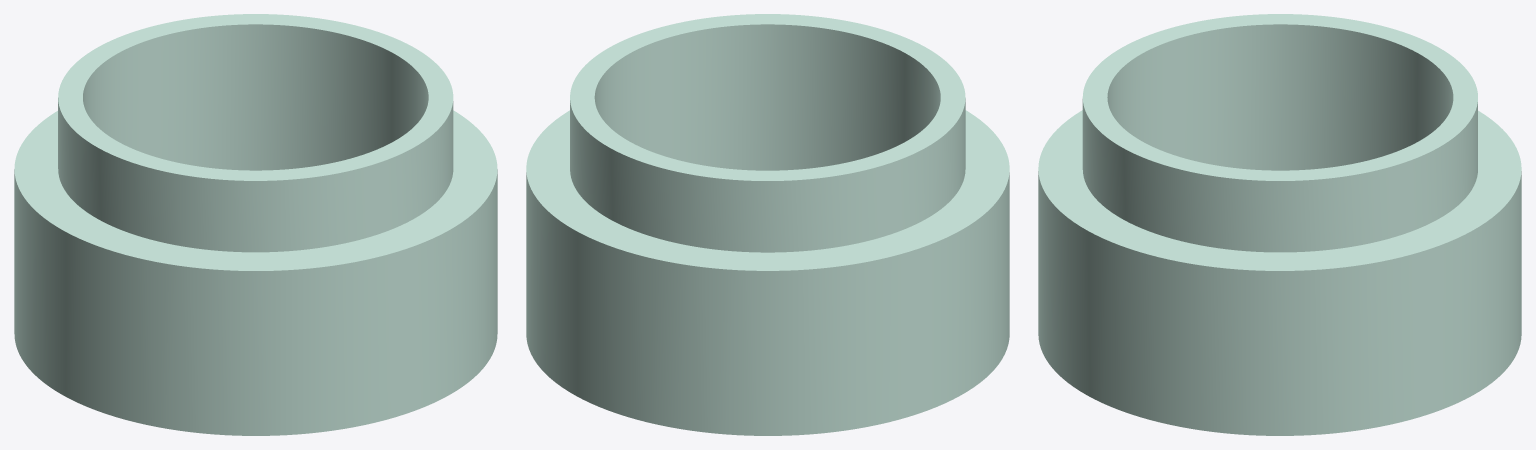
3 views of the same model, side by side, from view 1: azimuth 30°, elevation 25°; view 2: azimuth 150°, elevation 25°; view 3: azimuth 270°, elevation 25° (orthographic).
Parts seen in each view (by area): view 1: Renderer Node; view 2: Renderer Node; view 3: Renderer Node.
Boxes of the visible parts, left/top/right/bottom form: Renderer Node: left=14, top=14, right=497, bottom=435; Renderer Node: left=526, top=14, right=1009, bottom=435; Renderer Node: left=1038, top=14, right=1521, bottom=435.
Size of the model in its own units: 1.39 by 0.75 by 1.39.
